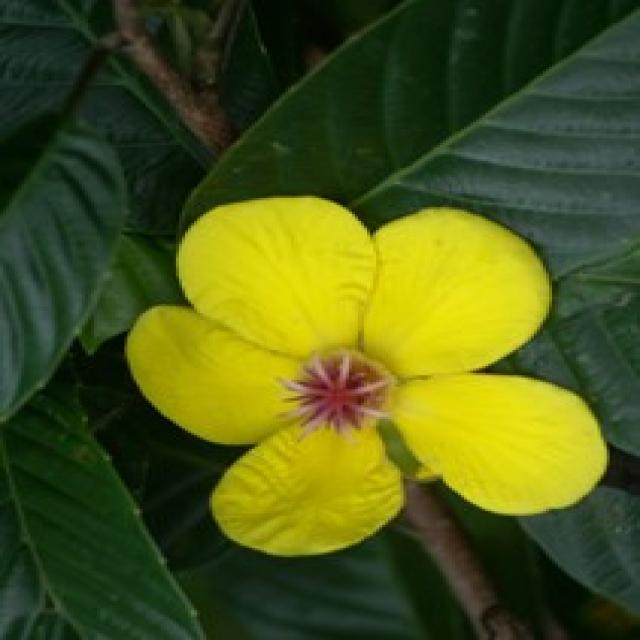Simpoh-Lak: (82, 155, 613, 560)
